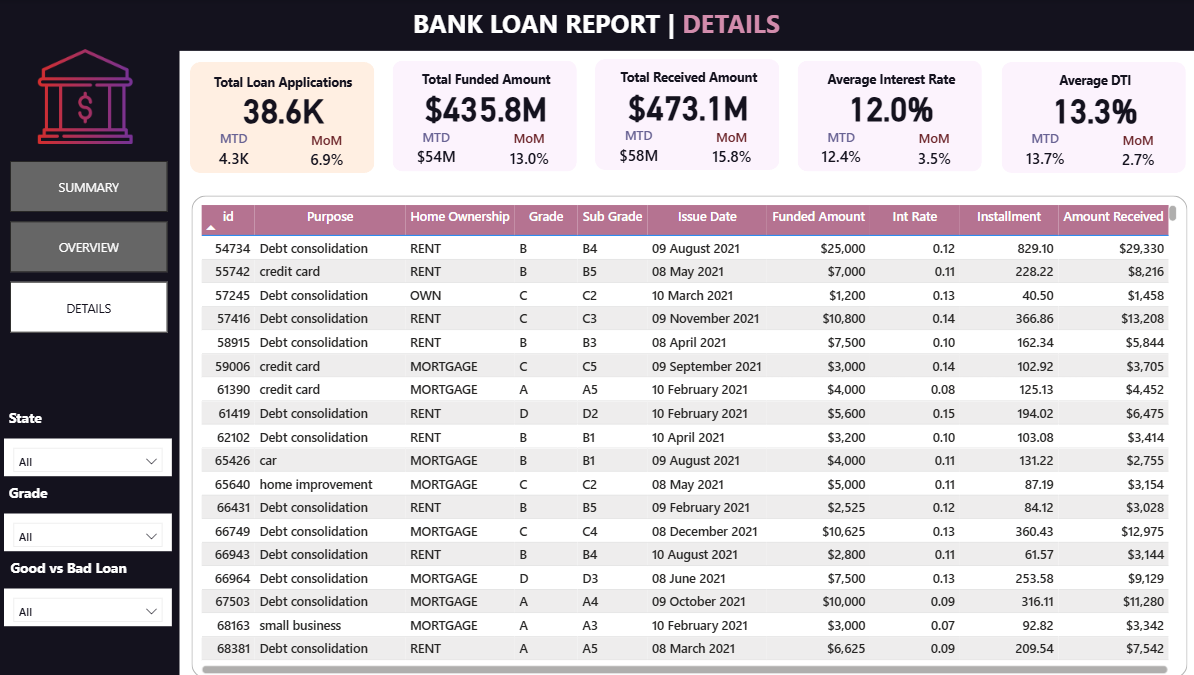

What the dashboard file says about the page in this screenshot:
{"tool":"powerbi","page":{"name":"DETAILS","canvas":[1280,720],"ordinal":2},"visuals":[{"type":"shape","box":[9.5,0,1270,55],"z":0},{"type":"shape","box":[643.1,63.6,195.6,117.7],"z":0,"group":"g3"},{"type":"shape","box":[428.1,65.2,195.6,117.7],"z":0,"group":"g2"},{"type":"shape","box":[858,65.2,195.6,117.7],"z":0,"group":"g4"},{"type":"shape","box":[213.1,66.8,195.6,117.7],"z":0,"group":"g1"},{"type":"shape","box":[1073,66.8,195.6,117.7],"z":0,"group":"g5"},{"type":"card","fields":{"Values":["Bank_loan_data.Total Amount Received"]},"box":[644.7,87.5,194.1,49.3],"z":1000,"group":"g3"},{"type":"card","fields":{"Values":["Bank_loan_data.Total Funded Amount"]},"box":[429.7,89.1,194.1,49.3],"z":1000,"group":"g2"},{"type":"card","fields":{"Values":["Bank_loan_data.Avg Interest Rate"]},"box":[859.6,89.1,194.1,49.3],"z":1000,"group":"g4"},{"type":"card","fields":{"Values":["Bank_loan_data.Total Loan Applications"]},"box":[214.7,90.7,194.1,49.3],"z":1000,"group":"g1"},{"type":"card","fields":{"Values":["Bank_loan_data.Average DTI"]},"box":[1074.6,90.7,194.1,49.3],"z":1000,"group":"g5"},{"type":"shape","box":[214.7,208.4,1056.2,512.2],"z":1000},{"type":"shape","box":[9.5,44.5,192.5,676],"z":2000},{"type":"textbox","box":[644.7,68.4,195.6,33.4],"z":2000,"group":"g3"},{"type":"textbox","box":[429.7,70,195.6,33.4],"z":2000,"group":"g2"},{"type":"textbox","box":[859.6,70,195.6,33.4],"z":2000,"group":"g4"},{"type":"textbox","box":[1074.6,71.6,195.6,33.4],"z":2000,"group":"g5"},{"type":"textbox","box":[214.5,73.5,194.1,31.8],"z":2000,"group":"g1"},{"type":"textbox","box":[300.6,1.6,687.1,50.9],"z":3000},{"type":"card","title":"MTD","fields":{"Values":["Bank_loan_data.MTD Total Received Amount"]},"box":[657.4,135.2,63.6,44.5],"z":3000,"group":"g3"},{"type":"card","title":"MTD","fields":{"Values":["Bank_loan_data.MTD Funded Amount"]},"box":[442.4,136.8,63.6,44.5],"z":3000,"group":"g2"},{"type":"card","title":"MTD","fields":{"Values":["Bank_loan_data.MTD Avg Int Rate"]},"box":[872.3,136.8,63.6,44.5],"z":3000,"group":"g4"},{"type":"card","title":"MTD","fields":{"Values":["Bank_loan_data.MTD Loan Applications"]},"box":[227.4,138.4,63.6,44.5],"z":3000,"group":"g1"},{"type":"card","title":"MTD","fields":{"Values":["Bank_loan_data.MTD Avg DTI"]},"box":[1087.3,138.4,63.6,44.5],"z":3000,"group":"g5"},{"type":"group","id":"g1","title":"Group 1","box":[213.1,66.8,195.6,117.7],"z":4000},{"type":"card","title":"MoM","fields":{"Values":["Bank_loan_data.MoM Total Received Amount"]},"box":[756,136.8,63.6,44.5],"z":4000,"group":"g3"},{"type":"card","title":"MoM","fields":{"Values":["Bank_loan_data.MoM Total Funded Amount"]},"box":[541,138.4,63.6,44.5],"z":4000,"group":"g2"},{"type":"card","title":"MoM","fields":{"Values":["Bank_loan_data.MoM Avg int Rate"]},"box":[970.9,138.4,63.6,44.5],"z":4000,"group":"g4"},{"type":"card","title":"MoM","fields":{"Values":["Bank_loan_data.MoM Loan Application"]},"box":[326,140,63.6,44.5],"z":4000,"group":"g1"},{"type":"card","title":"MoM","fields":{"Values":["Bank_loan_data.MoM Avg DTI"]},"box":[1185.9,140,63.6,44.5],"z":4000,"group":"g5"},{"type":"group","id":"g2","title":"Group 1","box":[428.1,65.2,197.2,117.7],"z":5000},{"type":"group","id":"g3","title":"Group 1","box":[643.1,63.6,197.2,117.7],"z":6000},{"type":"group","id":"g4","title":"Group 1","box":[858,65.2,197.2,117.7],"z":7000},{"type":"group","id":"g5","title":"Group 1","box":[1073,66.8,197.2,117.7],"z":8000},{"type":"slicer","fields":{"Values":["Bank_loan_data.address_state"]},"box":[15.9,466,178.1,39.8],"z":9000},{"type":"textbox","box":[15.9,427.9,90.7,36.6],"z":10000},{"type":"slicer","fields":{"Values":["Bank_loan_data.grade"]},"box":[15.9,545.6,178.1,39.8],"z":11000},{"type":"textbox","box":[15.9,507.4,65.2,36.6],"z":12000},{"type":"slicer","fields":{"Values":["Bank_loan_data.Good vs Bad Loan"]},"box":[15.9,625.1,178.1,39.8],"z":13000},{"type":"textbox","box":[17.5,586.9,176.6,36.6],"z":14000},{"type":"tableEx","fields":{"Values":["Bank_loan_data.id","Bank_loan_data.purpose","Bank_loan_data.home_ownership","Bank_loan_data.grade","Bank_loan_data.sub_grade","Bank_loan_data.issue_date","Bank_loan_data.Total Funded Amount","Sum(Bank_loan_data.int_rate)","Sum(Bank_loan_data.installment)","Bank_loan_data.Total Amount Received"]},"box":[219.5,213.1,1045,507.4],"z":15000},{"type":"image","box":[35,44.5,133.6,117.7],"z":16000},{"type":"pageNavigator","box":[22.3,171.8,167,182.9],"z":17000}]}

Visuals, with their boxes in screenshot pixels (x1, y1, x2, y2), scaled from the page's 1280x720 canvas onto the 1194x675 screenshot:
shape: rect(9, 0, 1193, 52)
shape: rect(600, 60, 782, 170)
shape: rect(399, 61, 582, 171)
shape: rect(800, 61, 983, 171)
shape: rect(199, 63, 381, 173)
shape: rect(1001, 63, 1183, 173)
card - Bank_loan_data.Total Amount Received: rect(601, 82, 782, 128)
card - Bank_loan_data.Total Funded Amount: rect(401, 84, 582, 130)
card - Bank_loan_data.Avg Interest Rate: rect(802, 84, 983, 130)
card - Bank_loan_data.Total Loan Applications: rect(200, 85, 381, 131)
card - Bank_loan_data.Average DTI: rect(1002, 85, 1183, 131)
shape: rect(200, 195, 1186, 674)
shape: rect(9, 42, 188, 674)
textbox: rect(601, 64, 784, 95)
textbox: rect(401, 66, 583, 97)
textbox: rect(802, 66, 984, 97)
textbox: rect(1002, 67, 1185, 98)
textbox: rect(200, 69, 381, 99)
textbox: rect(280, 2, 921, 49)
"MTD" card: rect(613, 127, 673, 168)
"MTD" card: rect(413, 128, 472, 170)
"MTD" card: rect(814, 128, 873, 170)
"MTD" card: rect(212, 130, 271, 171)
"MTD" card: rect(1014, 130, 1074, 171)
"Group 1" group: rect(199, 63, 381, 173)
"MoM" card: rect(705, 128, 765, 170)
"MoM" card: rect(505, 130, 564, 171)
"MoM" card: rect(906, 130, 965, 171)
"MoM" card: rect(304, 131, 363, 173)
"MoM" card: rect(1106, 131, 1166, 173)
"Group 1" group: rect(399, 61, 583, 171)
"Group 1" group: rect(600, 60, 784, 170)
"Group 1" group: rect(800, 61, 984, 171)
"Group 1" group: rect(1001, 63, 1185, 173)
slicer - Bank_loan_data.address_state: rect(15, 437, 181, 474)
textbox: rect(15, 401, 99, 435)
slicer - Bank_loan_data.grade: rect(15, 512, 181, 549)
textbox: rect(15, 476, 76, 510)
slicer - Bank_loan_data.Good vs Bad Loan: rect(15, 586, 181, 623)
textbox: rect(16, 550, 181, 585)
tableEx - Bank_loan_data.id x Bank_loan_data.purpose: rect(205, 200, 1180, 674)
image: rect(33, 42, 157, 152)
pageNavigator: rect(21, 161, 177, 333)
